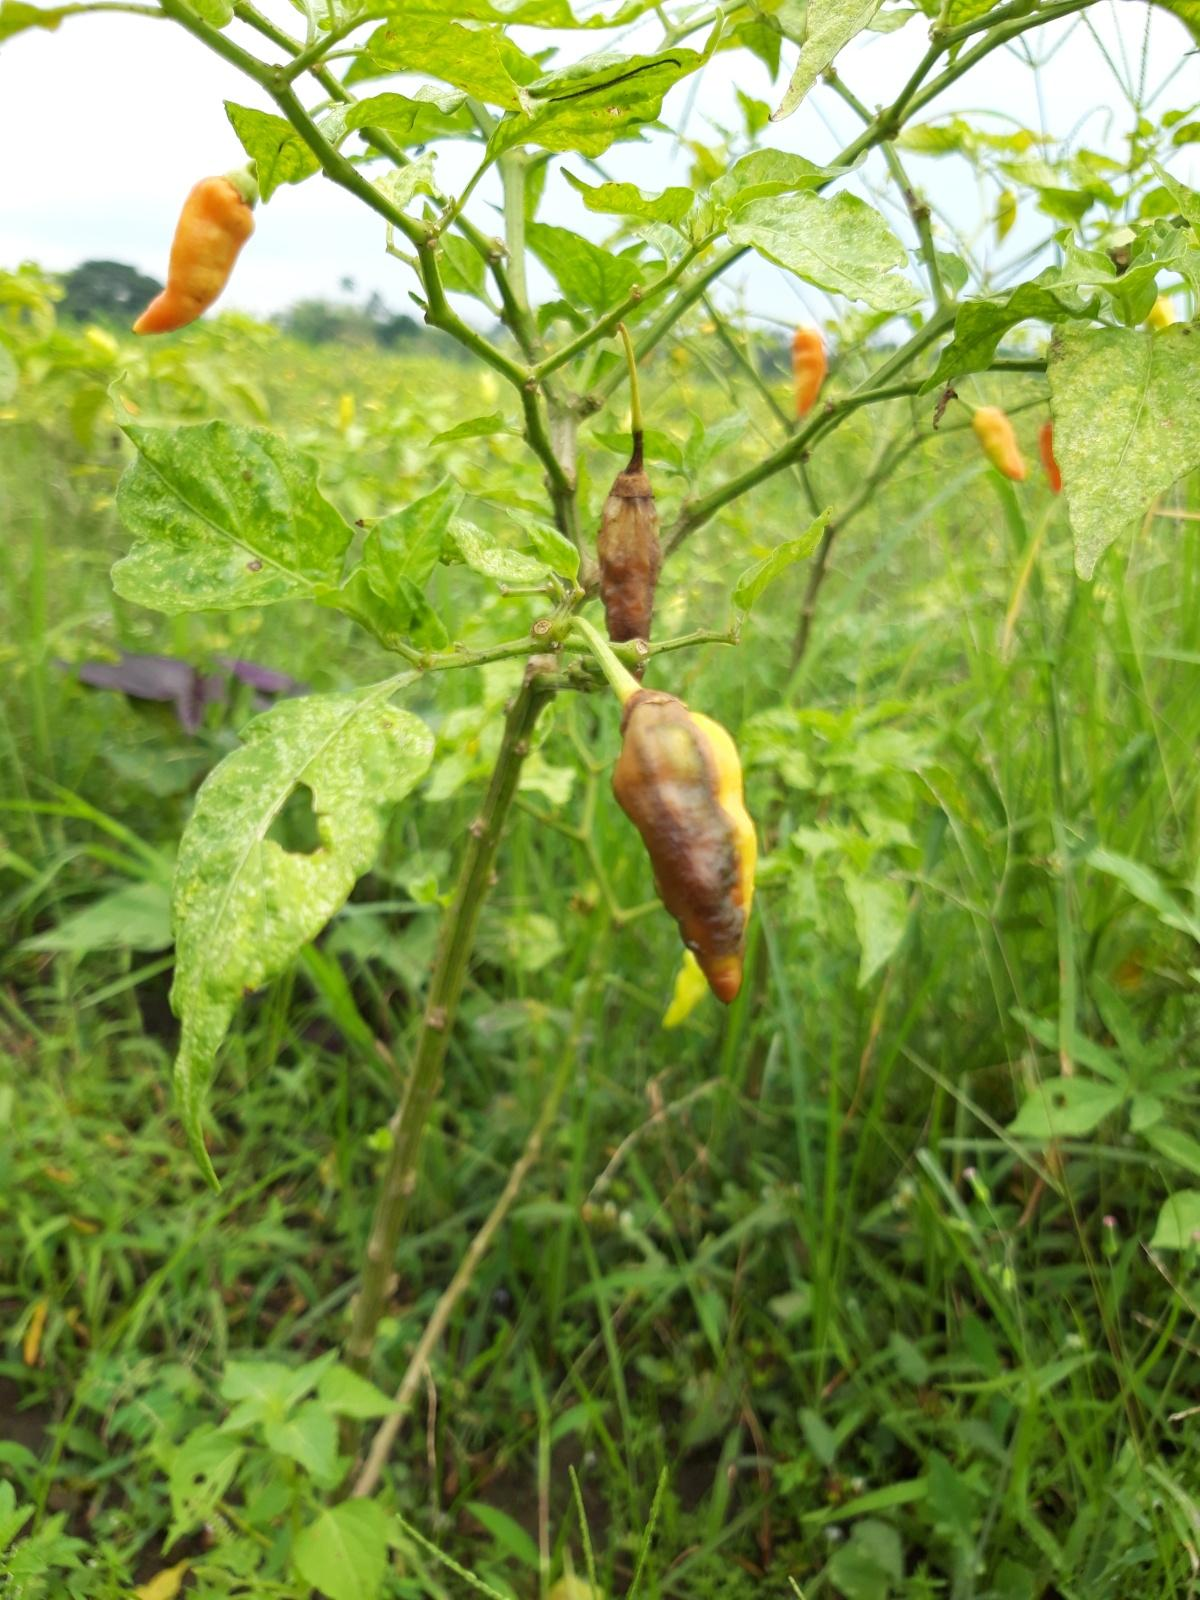cabai_normal: (131, 173, 261, 336), (973, 402, 1030, 483), (788, 325, 826, 420)
lalat_buah: (609, 692, 758, 1008), (597, 469, 659, 684)
